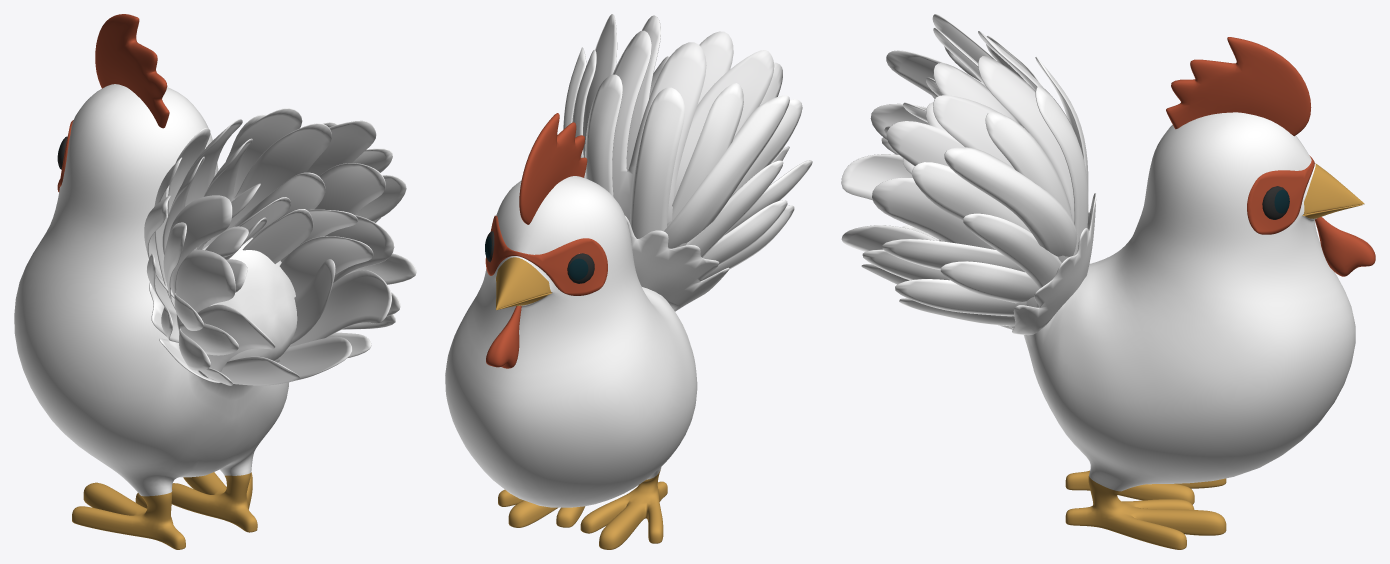
Rendered from chicken.glb.
3 renders of one model, left to right at view 1: azimuth 30°, elevation 25°; view 2: azimuth 150°, elevation 25°; view 3: azimuth 270°, elevation 25°, orthographic. The views are drawn at different scales.
Visible parts, largest first — view 1: Cucco_body, Cucco_butt; view 2: Cucco_body, Cucco_butt, Cucco_eye; view 3: Cucco_body, Cucco_butt, Cucco_eye.
Part boxes in pixels (bbox=[...]): Cucco_body: bbox=[14, 14, 297, 549]; Cucco_butt: bbox=[144, 108, 416, 385]; Cucco_body: bbox=[445, 113, 697, 549]; Cucco_butt: bbox=[563, 14, 812, 311]; Cucco_eye: bbox=[485, 231, 594, 283]; Cucco_body: bbox=[1024, 37, 1375, 549]; Cucco_butt: bbox=[841, 14, 1096, 335]; Cucco_eye: bbox=[1262, 186, 1289, 219].
Size of the model in its own units: 0.5443 by 1.06 by 1.08.
